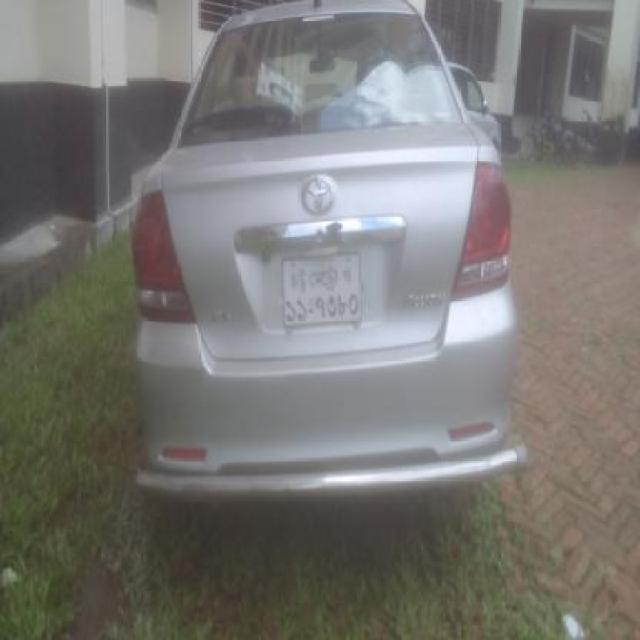numberplate: (279, 250, 364, 329)
